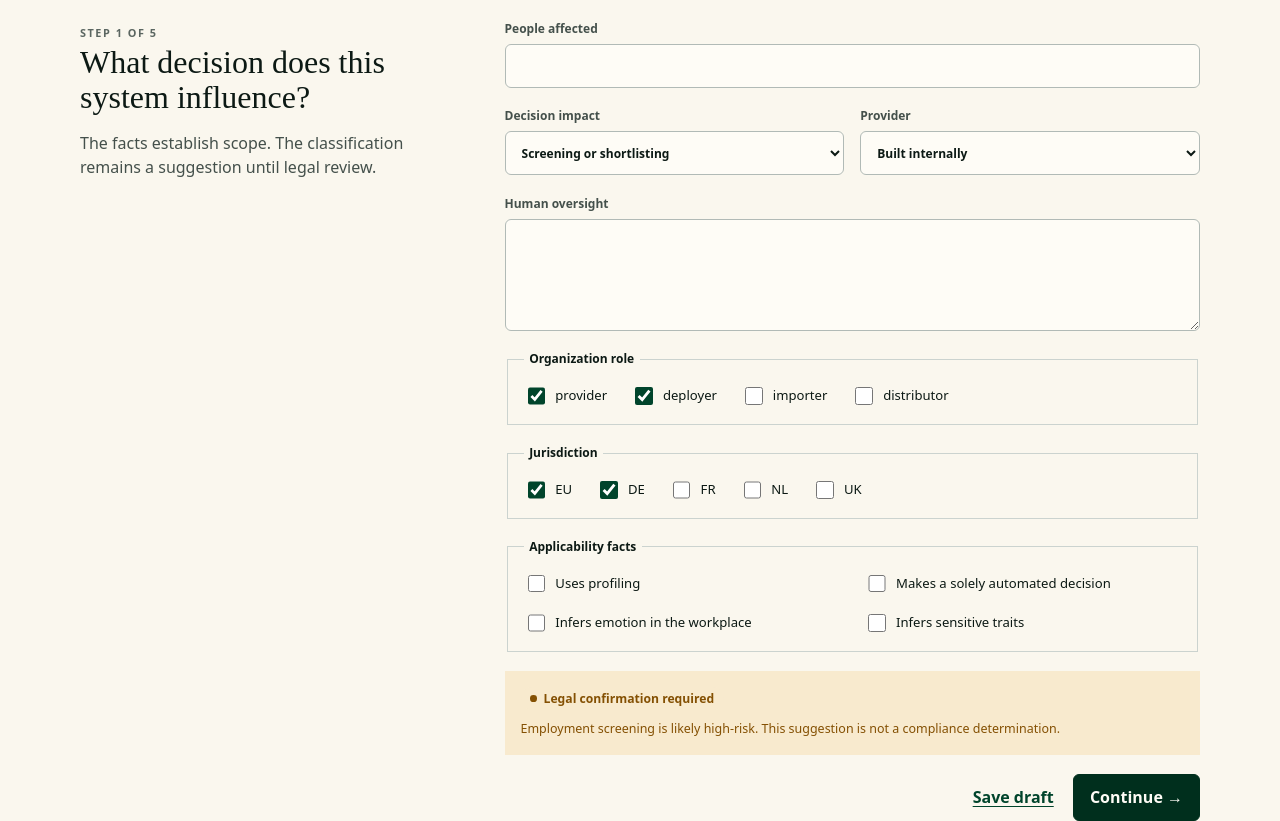
it: FirstAuditWizard › blocks incomplete registration and explains the missing evidence
This screenshot has width=1280, height=821.
(page scrolled)
Step 1. Click the button "Continue →" → x=1136, y=797, box [1073,774,1200,820]
(page scrolled)
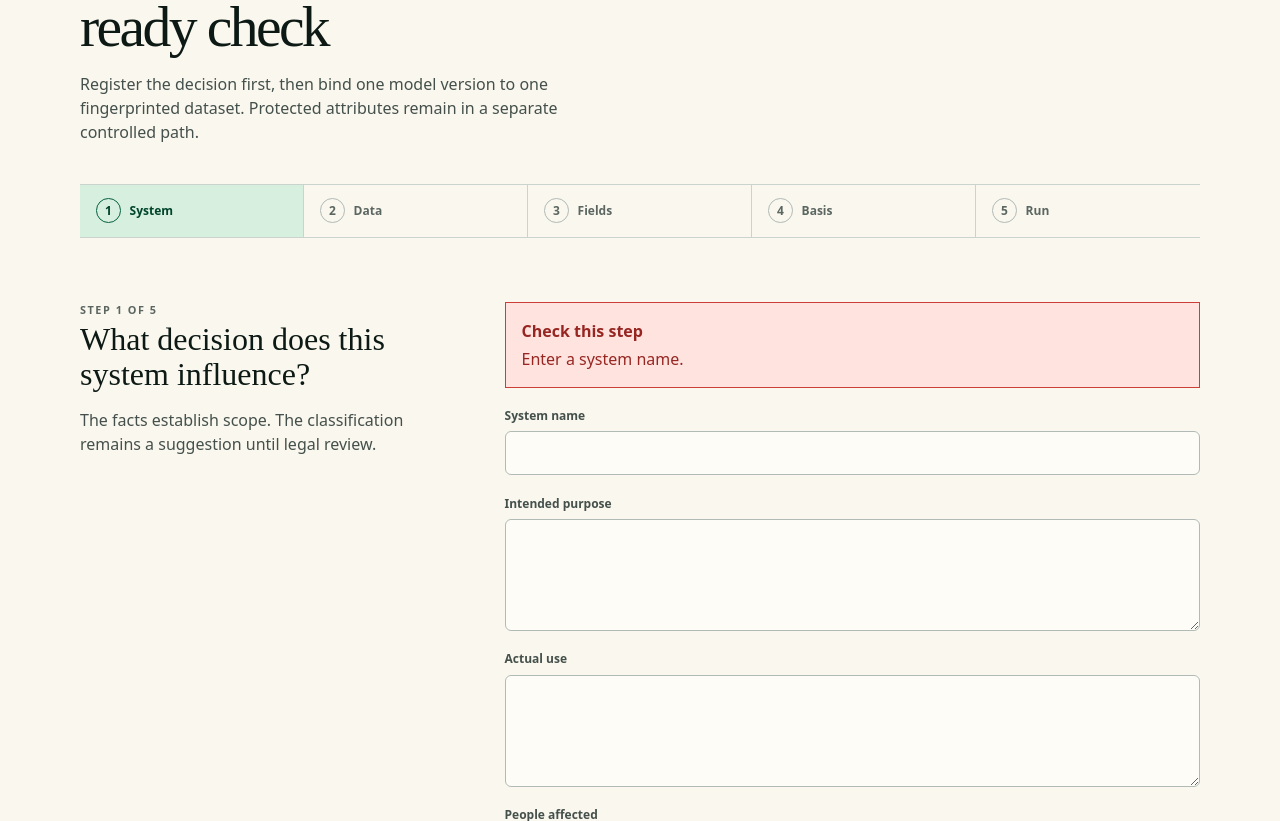
Now the message shows "Enter a system name", box [522,348,684,370]
